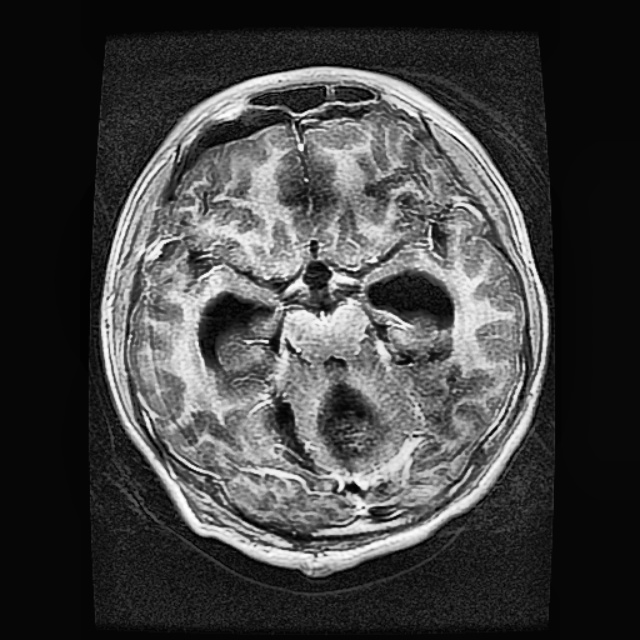Glioma: (315, 380, 390, 469)
